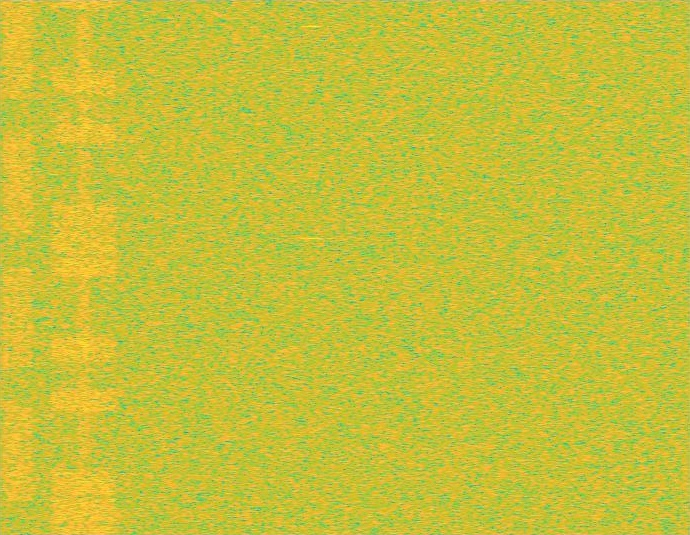5G: (1, 0, 35, 534)
DSSS: (76, 0, 92, 534)
LTE: (49, 0, 118, 534)
Radar: (306, 0, 319, 534)
